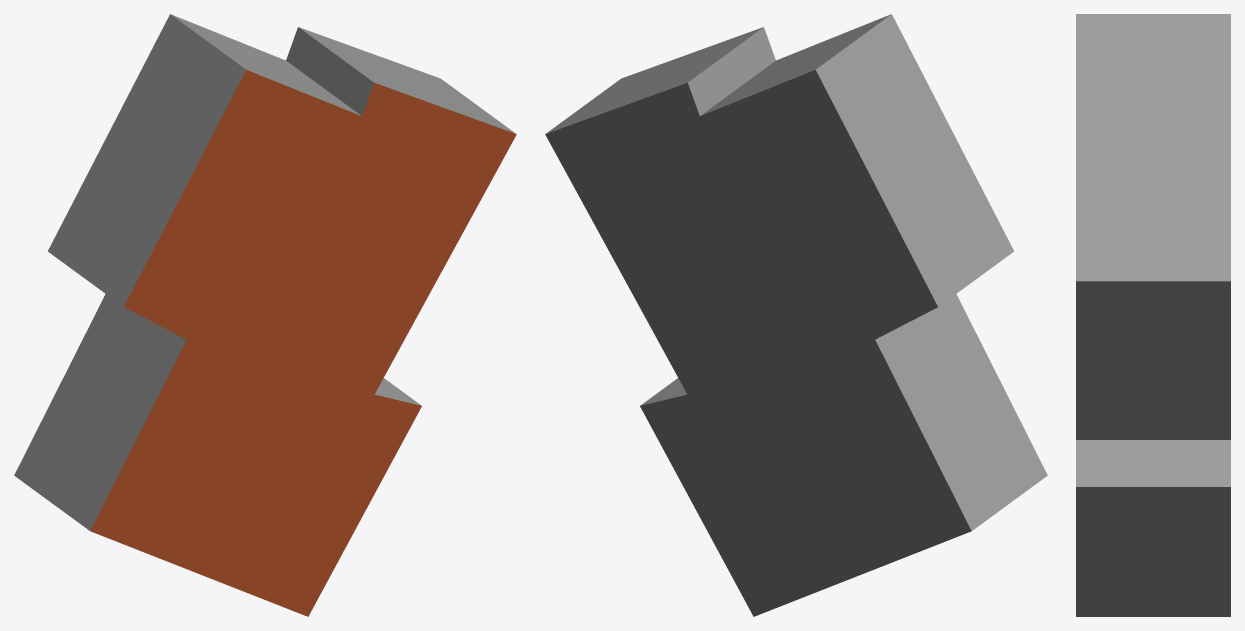
Rendered from construction_6531_assumed_A_Casa_h6m.obj.
The picture shows the model from 3 angles, left to right: view 1: azimuth 30°, elevation 25°; view 2: azimuth 150°, elevation 25°; view 3: azimuth 270°, elevation 25°; orthographic projection.
Parts seen in each view (by area): view 1: construction_6531_assumed_A_Casa; view 2: construction_6531_assumed_A_Casa; view 3: construction_6531_assumed_A_Casa.
Boxes of the visible parts, bbox=[...] form: construction_6531_assumed_A_Casa: bbox=[14, 14, 516, 616]; construction_6531_assumed_A_Casa: bbox=[545, 14, 1047, 616]; construction_6531_assumed_A_Casa: bbox=[1076, 14, 1230, 616].
Size of the model in its own units: 19.41 by 24.44 by 6.
